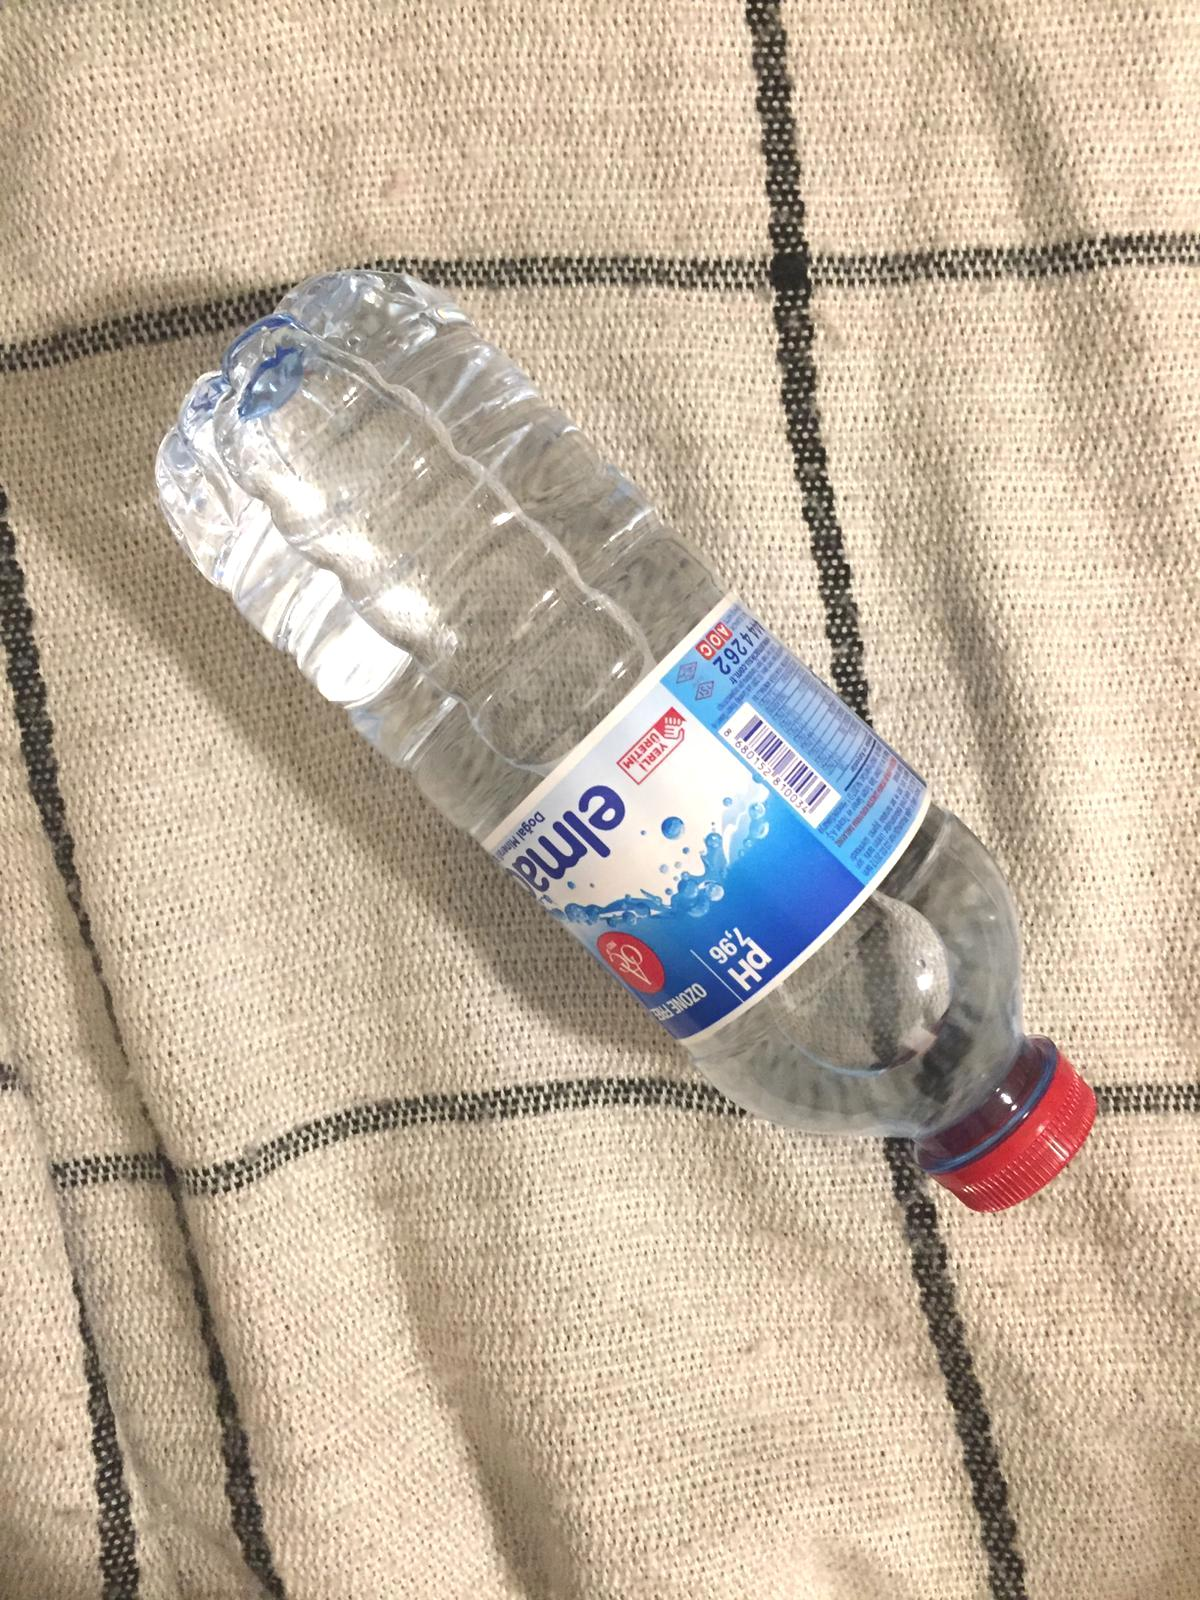bottle: (147, 271, 1103, 1225)
